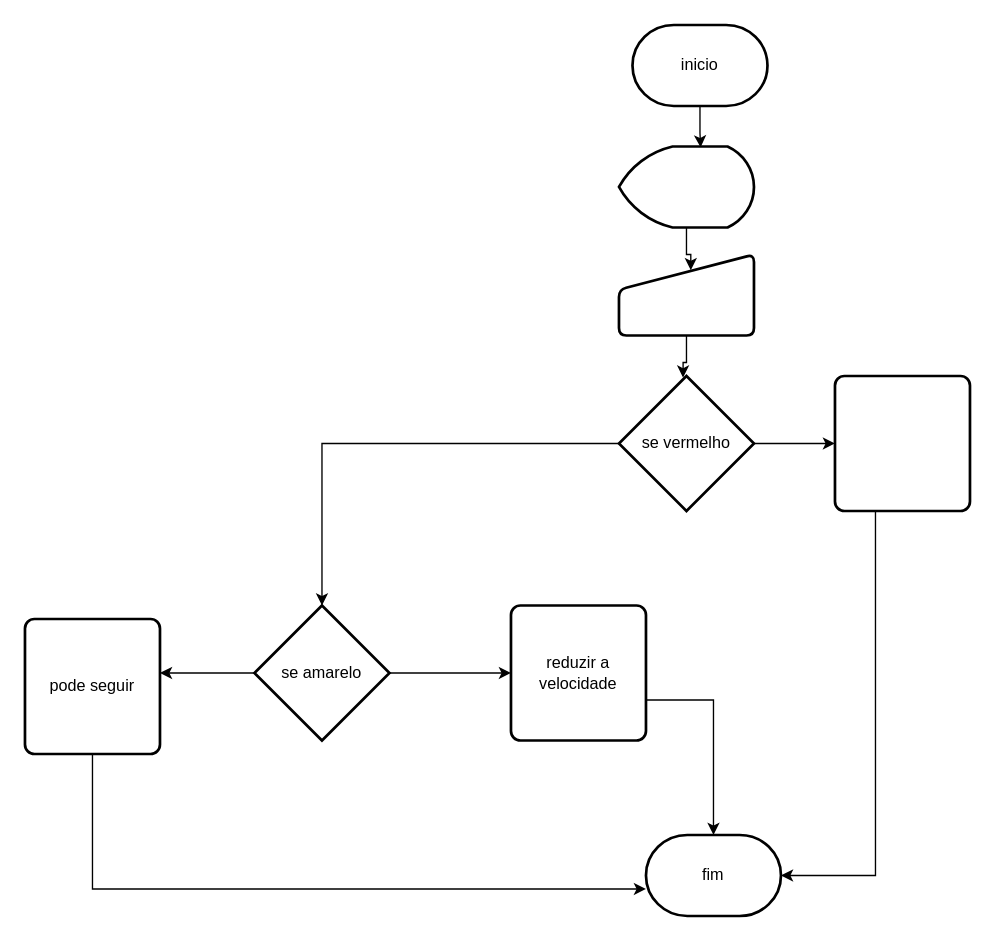
This 994x940 diagram has some shape labels left out. Each missing label, with the centre of its shape:
"cor do semáforo" goes at [686,294].
"qual a cor do semáforo?" goes at [686,186].
"verdadeiro frear" goes at [902,443].
